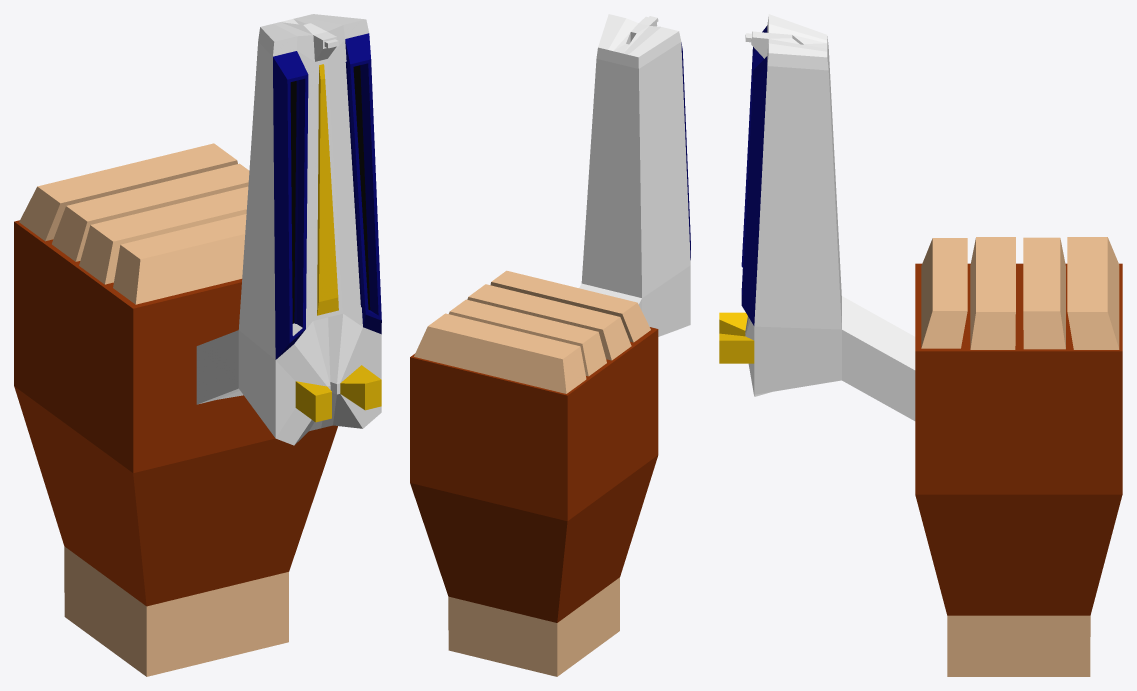
Rendered from hand.fbx.
3 renders of one model, left to right at view 1: azimuth 30°, elevation 25°; view 2: azimuth 150°, elevation 25°; view 3: azimuth 270°, elevation 25°, orthographic. The views are drawn at different scales.
Visible parts, largest first — view 1: Cube; view 2: Cube; view 3: Cube.
Part boxes in pixels (<box>): Cube: <box>14,14,381,676</box>; Cube: <box>410,14,690,676</box>; Cube: <box>719,14,1122,676</box>.
Bounding box in the file's own units: 63.39 × 207 × 123.
